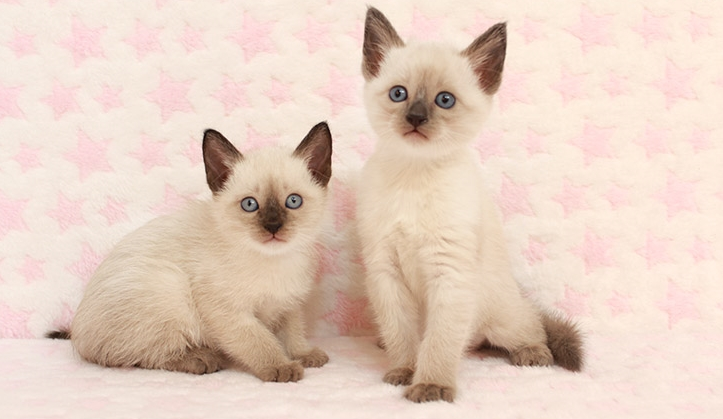cat: (348, 2, 589, 408), (49, 118, 356, 390)
cat-face: (355, 2, 514, 168), (197, 120, 339, 255)
